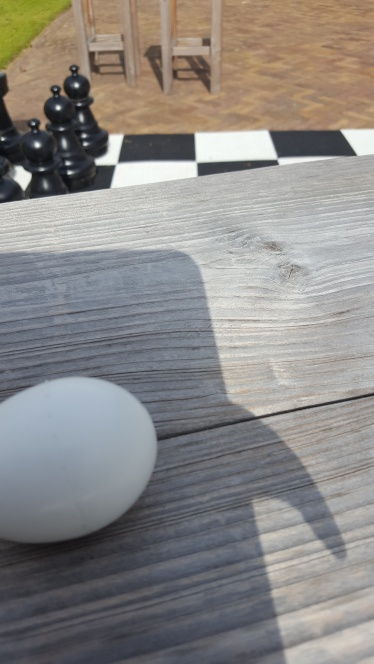egg: (1, 375, 159, 546)
